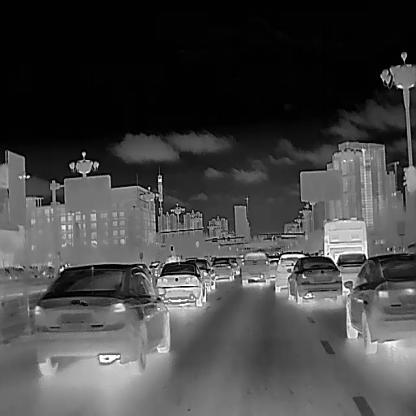car: (31, 261, 171, 376), (343, 251, 416, 354), (286, 255, 343, 304), (155, 260, 207, 307), (322, 216, 368, 260), (335, 252, 368, 291), (274, 253, 306, 292), (240, 251, 271, 287), (193, 257, 216, 291), (210, 256, 234, 280), (146, 261, 165, 277), (229, 260, 240, 276)
